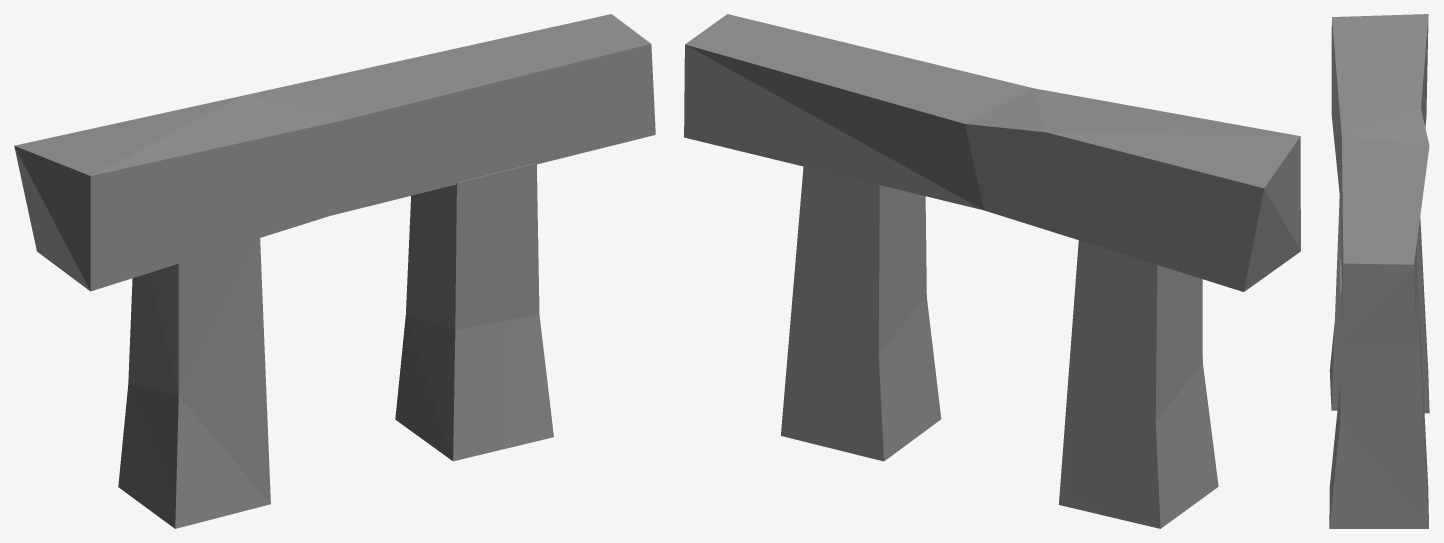
The model's file is SPW_Natures_Stone_01.glb.
3 renders of one model, left to right at view 1: azimuth 30°, elevation 25°; view 2: azimuth 150°, elevation 25°; view 3: azimuth 270°, elevation 25°, orthographic. The views are drawn at different scales.
Visible parts, largest first — view 1: SPW_Natures_Stone_01; view 2: SPW_Natures_Stone_01; view 3: SPW_Natures_Stone_01.
Boxes of the visible parts, x1,y1,x2,y2 form: SPW_Natures_Stone_01: (14,14,655,528); SPW_Natures_Stone_01: (684,14,1300,528); SPW_Natures_Stone_01: (1329,14,1429,528).
Bounding box in the file's own units: 5.59 × 3.37 × 0.9591.
1 material, 1 textured.
